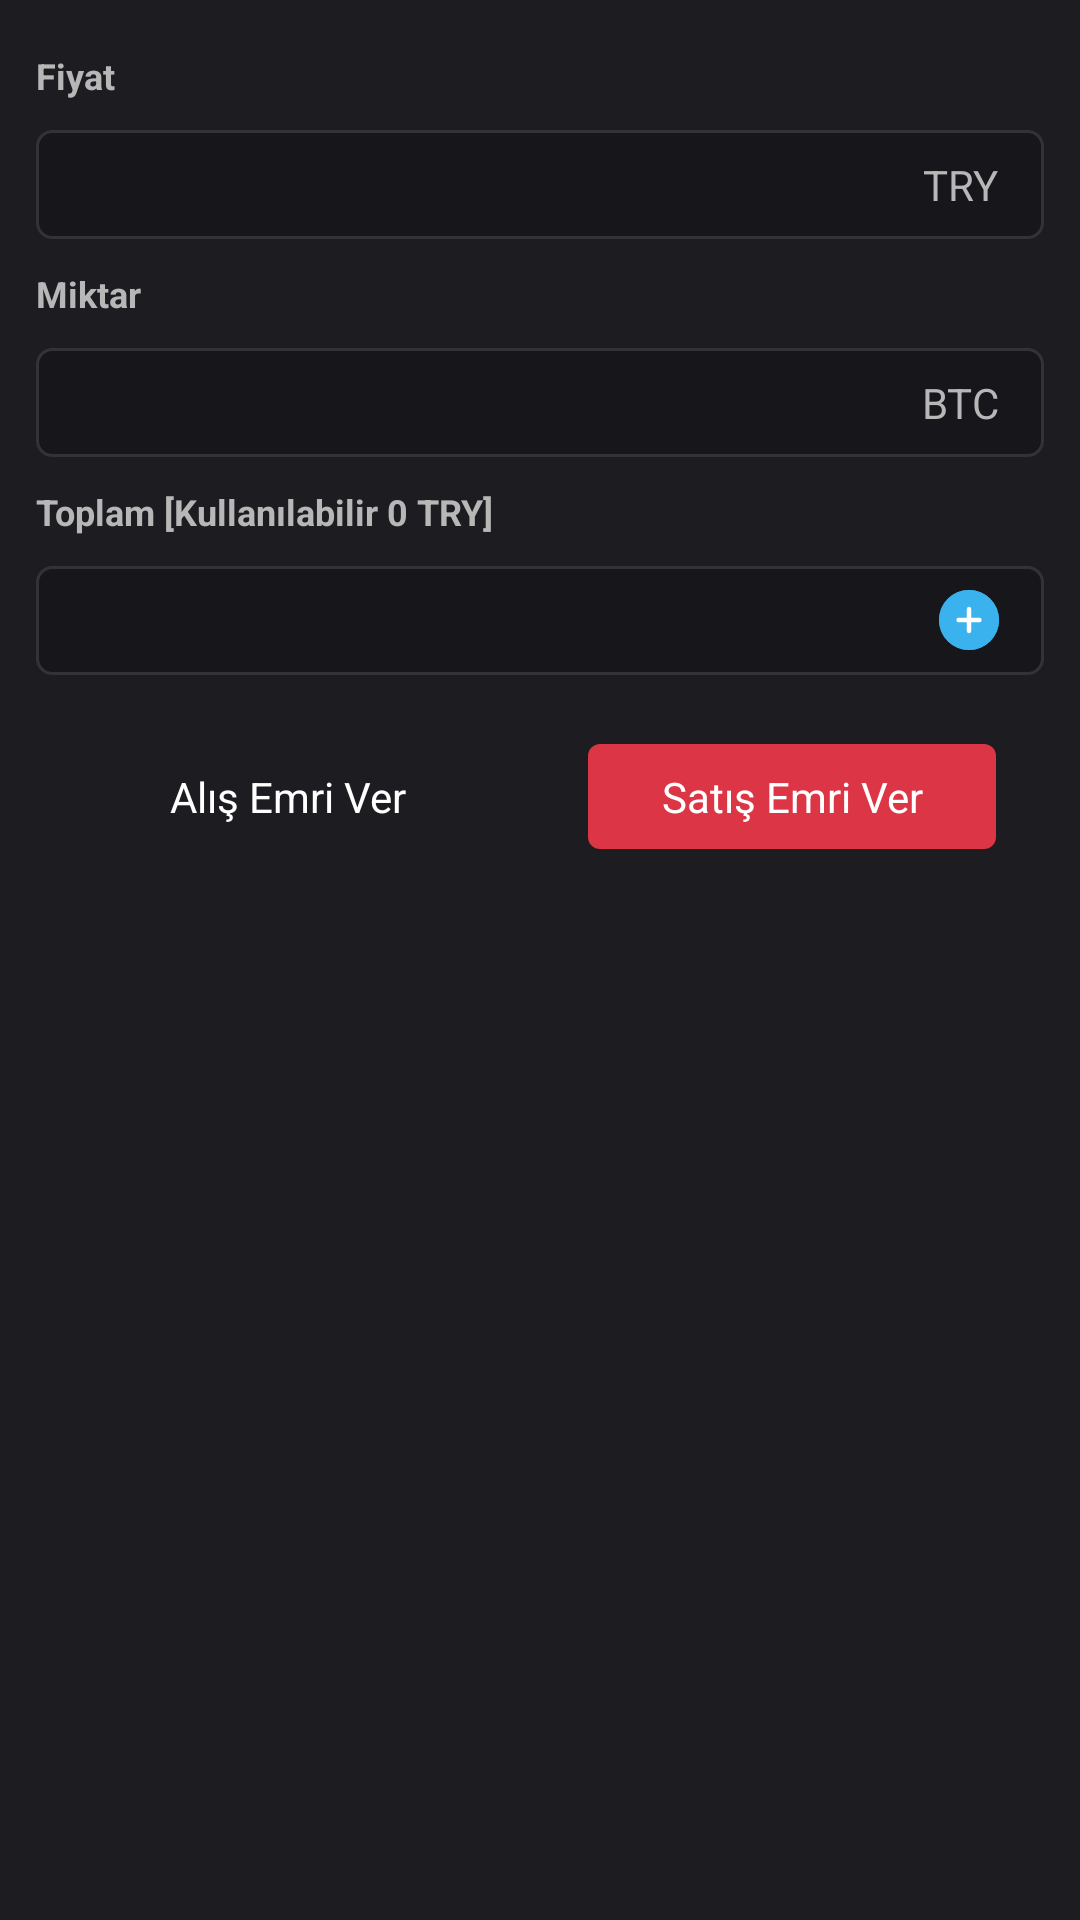

Icon click points for this 1080px x 1920px phone screenshot, format [x,y]:
balance buy: [969,620]
